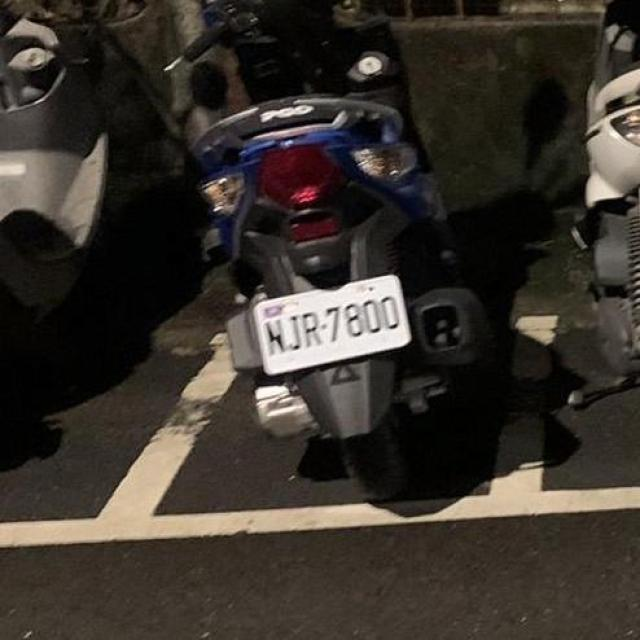W: (243, 260, 420, 382)
